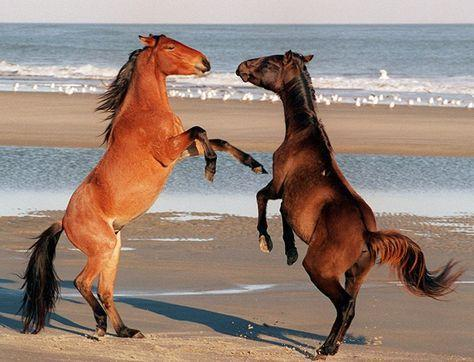horse: (235, 48, 465, 357)
